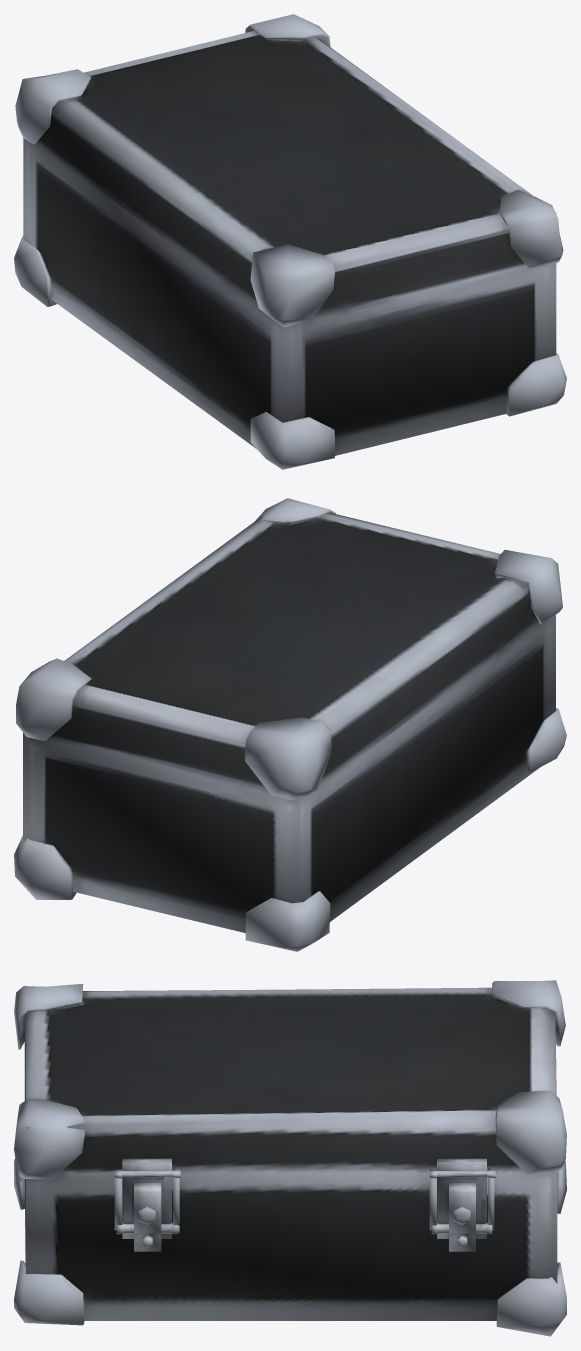
The model's file is tripo_convert_97673abd-ceda-49a7-8304-39d9e33b3fd0.glb.
3 renders of one model, top to bottom at view 1: azimuth 30°, elevation 25°; view 2: azimuth 150°, elevation 25°; view 3: azimuth 270°, elevation 25°, orthographic. The views are drawn at different scales.
Visible parts, largest first — view 1: tripo_node_97673abd-ceda-49a7-8304-39d9e33b3fd0; view 2: tripo_node_97673abd-ceda-49a7-8304-39d9e33b3fd0; view 3: tripo_node_97673abd-ceda-49a7-8304-39d9e33b3fd0.
Boxes of the visible parts, <box> form: tripo_node_97673abd-ceda-49a7-8304-39d9e33b3fd0: <box>14,14,566,469</box>; tripo_node_97673abd-ceda-49a7-8304-39d9e33b3fd0: <box>14,498,566,951</box>; tripo_node_97673abd-ceda-49a7-8304-39d9e33b3fd0: <box>14,980,566,1336</box>.
Size of the model in its own units: 0.6621 by 0.4551 by 0.998.
1 material, 1 textured.
